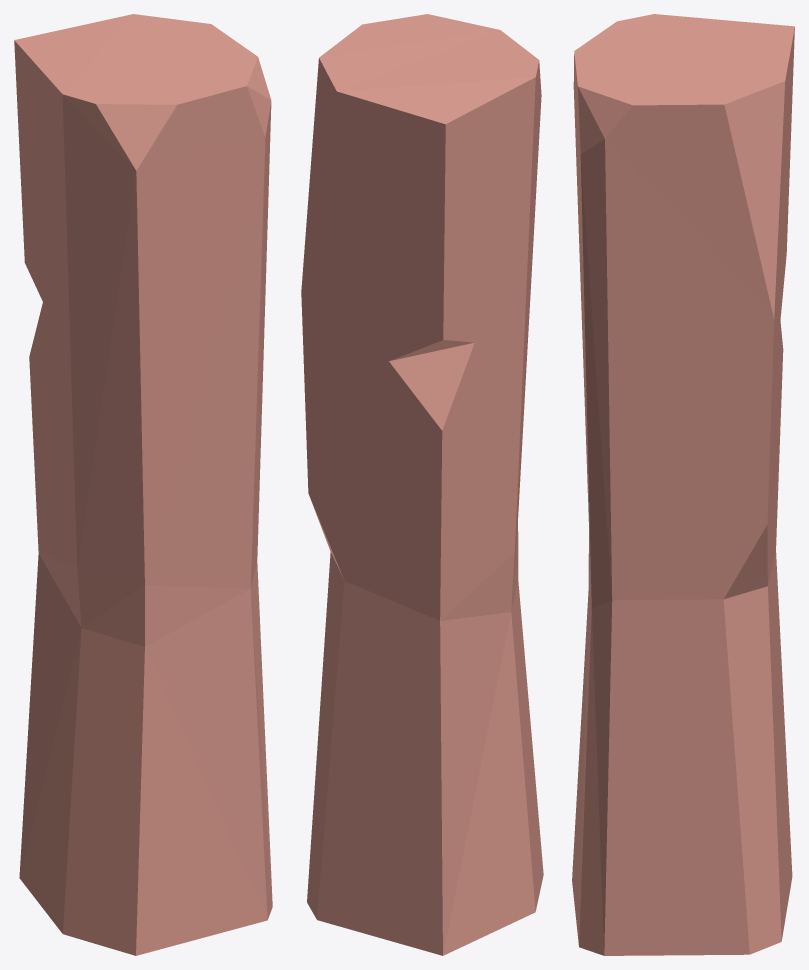
The model's file is Plane_014_Vlad.fbx.
3 views of the same model, side by side, from view 1: azimuth 30°, elevation 25°; view 2: azimuth 150°, elevation 25°; view 3: azimuth 270°, elevation 25° (orthographic).
Parts seen in each view (by area): view 1: Plane.014; view 2: Plane.014; view 3: Plane.014.
Part boxes in pixels (x1,y1,x2,y2): Plane.014: (14,14,272,955); Plane.014: (301,14,543,955); Plane.014: (572,14,794,955).
Size of the model in its own units: 92.44 by 400 by 95.05.
